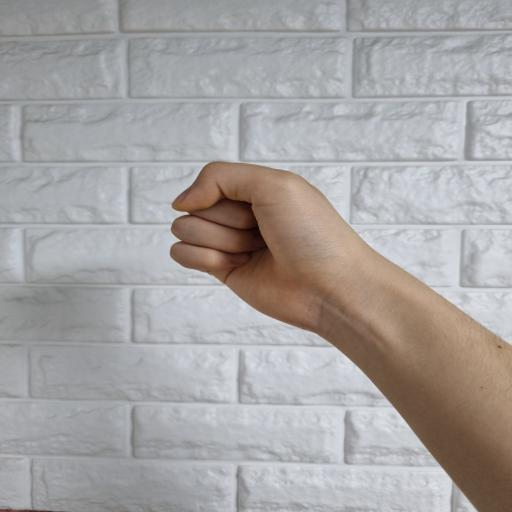Rock: (170, 156, 374, 342)
